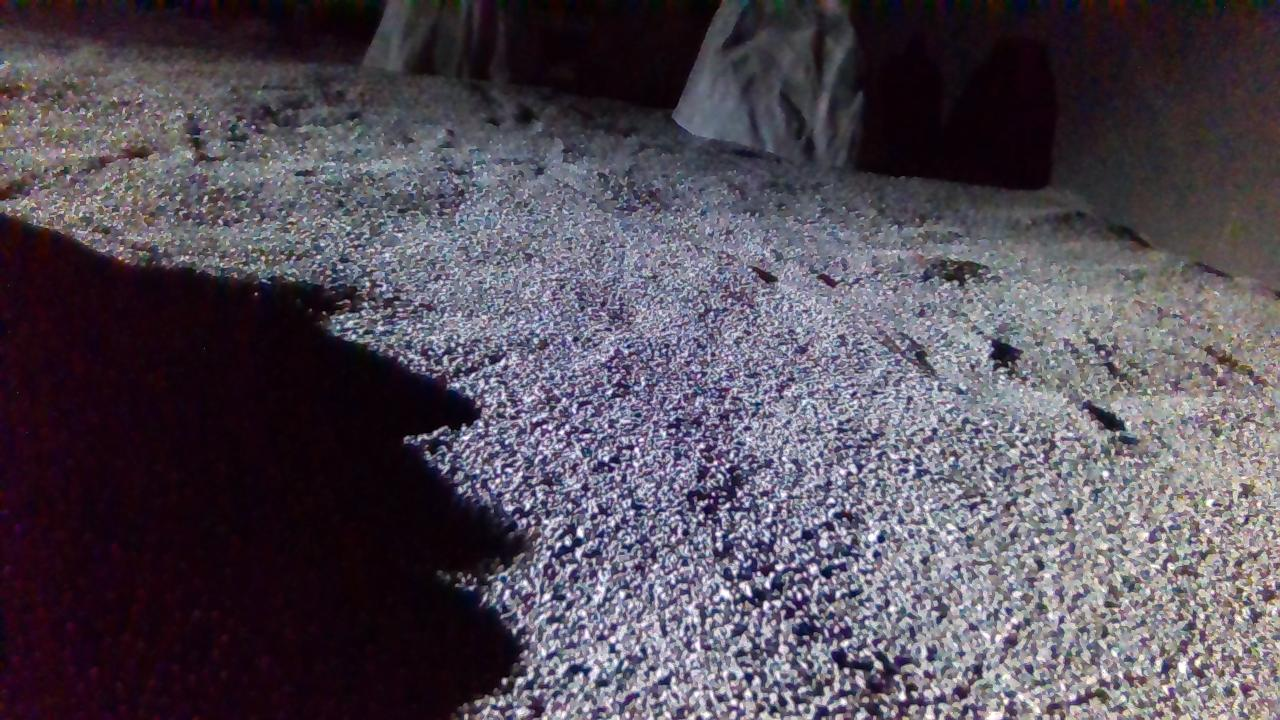rock: (674, 0, 865, 165), (363, 0, 508, 76)
